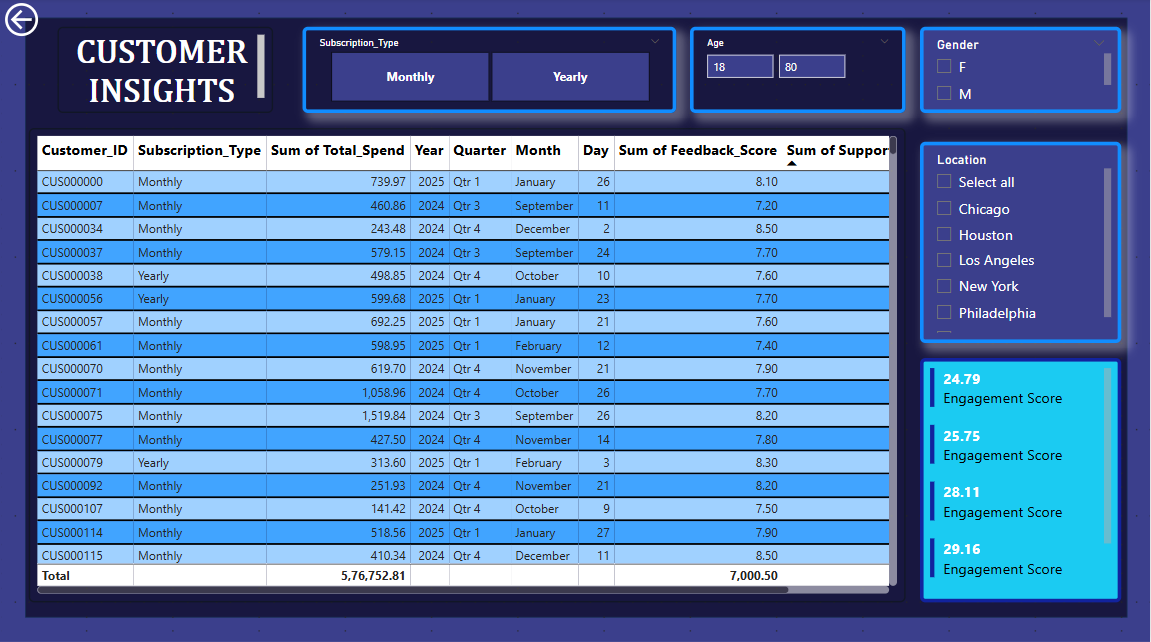

The page's visual inventory and layout, read from the dashboard file:
{"tool":"powerbi","page":{"name":"Customer Insights","canvas":[1280,720],"ordinal":1},"visuals":[{"type":"tableEx","fields":{"Values":["churn_dataset.Customer_ID","churn_dataset.Subscription_Type","Sum(churn_dataset.Total_Spend)","churn_dataset.Last_Purchase_Date.Variation.Date Hierarchy.Year","churn_dataset.Last_Purchase_Date.Variation.Date Hierarchy.Quarter","churn_dataset.Last_Purchase_Date.Variation.Date Hierarchy.Month","churn_dataset.Last_Purchase_Date.Variation.Date Hierarchy.Day","Sum(churn_dataset.Feedback_Score)","Sum(churn_dataset.Support_Tickets_Raised)"]},"box":[32,144,976,528],"z":0},{"type":"actionButton","box":[0,0,64,48],"z":1000},{"type":"slicer","fields":{"Values":["churn_dataset.Subscription_Type"]},"box":[336,32,416,96],"z":2000},{"type":"slicer","fields":{"Values":["churn_dataset.Age"]},"box":[768,32,240,96],"z":3000},{"type":"slicer","fields":{"Values":["churn_dataset.Location"]},"box":[1024,160,224,224],"z":4000},{"type":"slicer","fields":{"Values":["churn_dataset.Gender"]},"box":[1024,32,224,96],"z":5000},{"type":"textbox","box":[64,32,240,96],"z":6000},{"type":"multiRowCard","fields":{"Values":["churn_dataset.Engagement Score"]},"box":[1024,400,224,272],"z":7000}]}

Visuals, with their boxes in screenshot pixels (x1, y1, x2, y2), scaled from the page's 1280x720 canvas onto the 1151x642 screenshot:
tableEx - churn_dataset.Customer_ID x churn_dataset.Subscription_Type: {"x1": 29, "y1": 128, "x2": 906, "y2": 599}
actionButton: {"x1": 0, "y1": 0, "x2": 58, "y2": 43}
slicer - churn_dataset.Subscription_Type: {"x1": 302, "y1": 29, "x2": 676, "y2": 114}
slicer - churn_dataset.Age: {"x1": 691, "y1": 29, "x2": 906, "y2": 114}
slicer - churn_dataset.Location: {"x1": 921, "y1": 143, "x2": 1122, "y2": 342}
slicer - churn_dataset.Gender: {"x1": 921, "y1": 29, "x2": 1122, "y2": 114}
textbox: {"x1": 58, "y1": 29, "x2": 273, "y2": 114}
multiRowCard - churn_dataset.Engagement Score: {"x1": 921, "y1": 357, "x2": 1122, "y2": 599}
